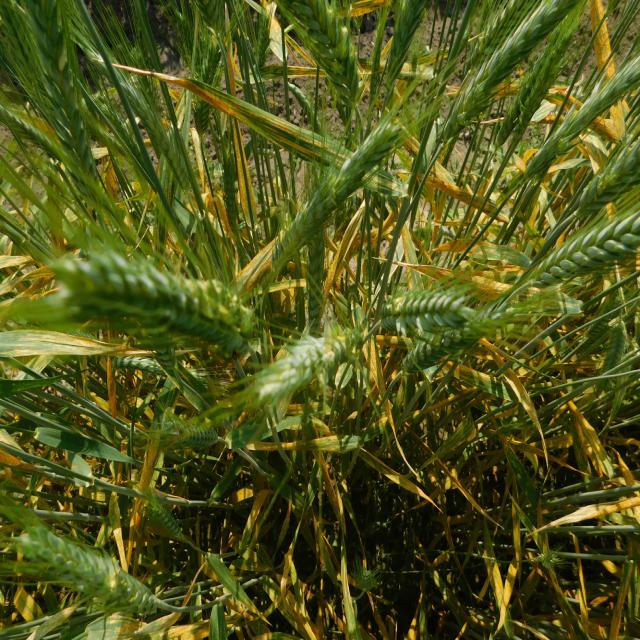wheat-yellowrust: (176, 80, 356, 171), (545, 0, 628, 145), (359, 312, 405, 460), (128, 419, 169, 561), (386, 260, 512, 303), (320, 200, 366, 317), (411, 173, 512, 222), (248, 435, 361, 451), (334, 0, 387, 19)
